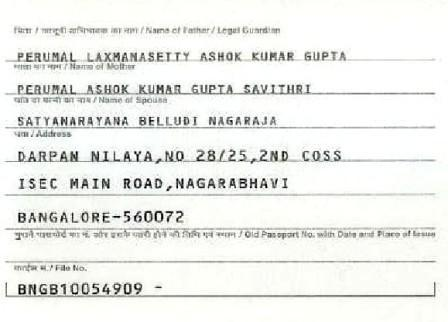File_no: (12, 277, 142, 295)
address: (8, 145, 381, 229)
father_name: (13, 46, 357, 61)
mother_name: (10, 77, 319, 96)
spouse_name: (10, 111, 282, 128)
